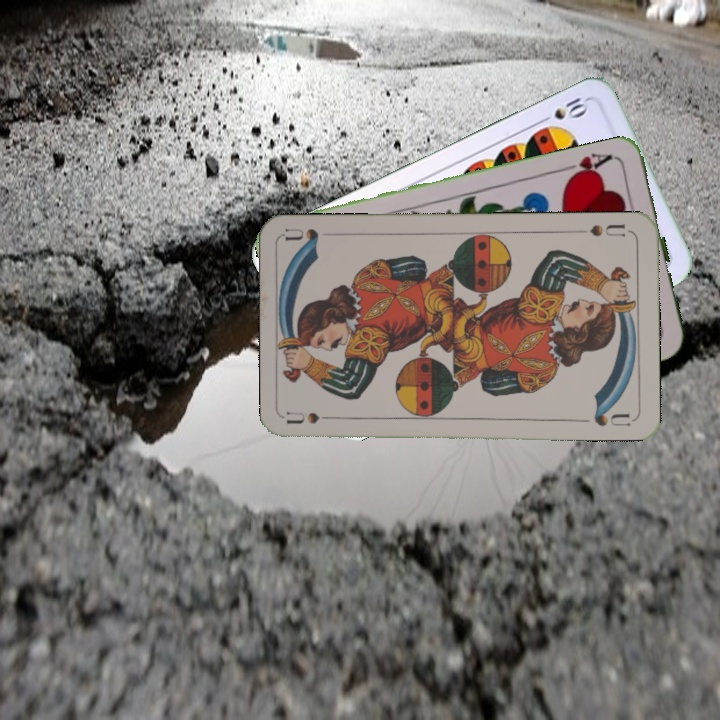HA: (560, 149, 619, 183)
S10: (534, 93, 591, 126)
SU: (285, 407, 344, 426), (573, 220, 628, 240)
